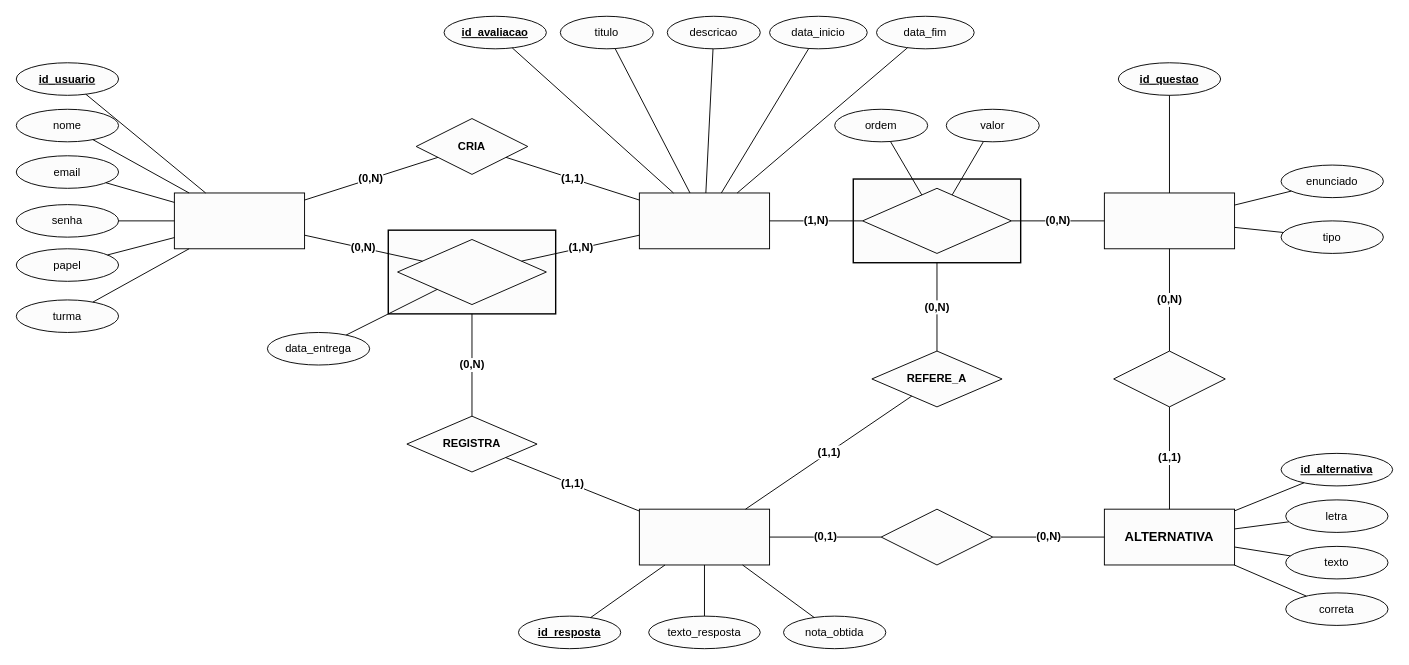
This 1409x665 diagram has some shape labels left out. The shapes that lost their labels are listed below. From the top down, each one's centre as x and y in pixels, then its label:
At [239,220]: "USUARIO".
At [704,220]: "AVALIACAO".
At [936,220]: "AVALIACAO_QUESTAO".
At [1169,220]: "QUESTAO".
At [471,272]: "USUARIO_AVALIACAO".
At [1169,378]: "POSSUI".
At [704,536]: "RESPOSTA".
At [936,536]: "ESCOLHE".
